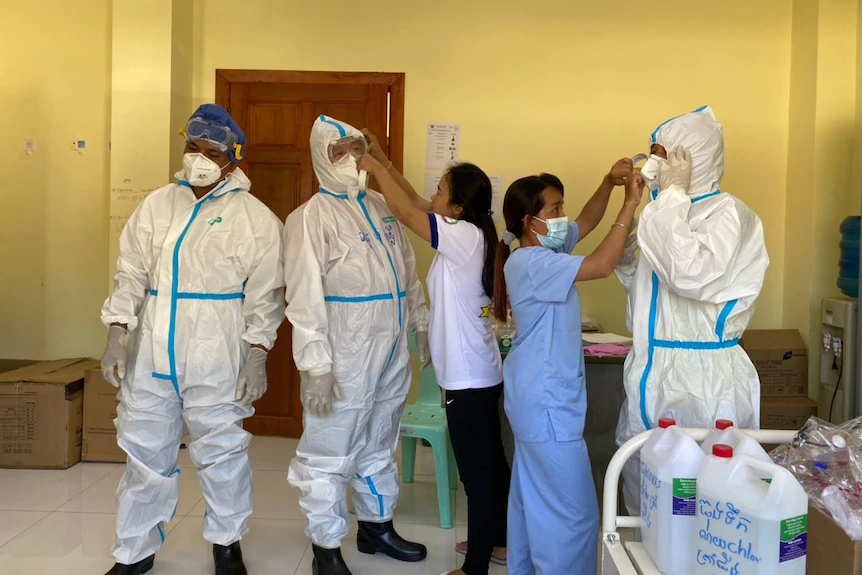Coverall: (90, 164, 284, 533), (280, 117, 427, 526), (616, 108, 766, 425)
Gloves: (237, 347, 271, 413), (304, 370, 341, 422), (100, 326, 131, 387)
Goggles: (327, 135, 368, 160)
with_mask: (324, 135, 373, 189), (180, 141, 225, 190), (538, 217, 571, 251)
